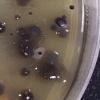black: (37, 49, 68, 81), (15, 23, 43, 51), (16, 88, 35, 100), (55, 15, 70, 26), (16, 0, 33, 8), (29, 25, 41, 36), (0, 20, 9, 34), (19, 66, 30, 77), (16, 26, 27, 37), (57, 27, 68, 38), (0, 78, 6, 98), (22, 47, 34, 56), (19, 39, 29, 48), (49, 22, 58, 31), (68, 5, 76, 11), (37, 50, 43, 57), (14, 14, 20, 20), (27, 11, 34, 16)
